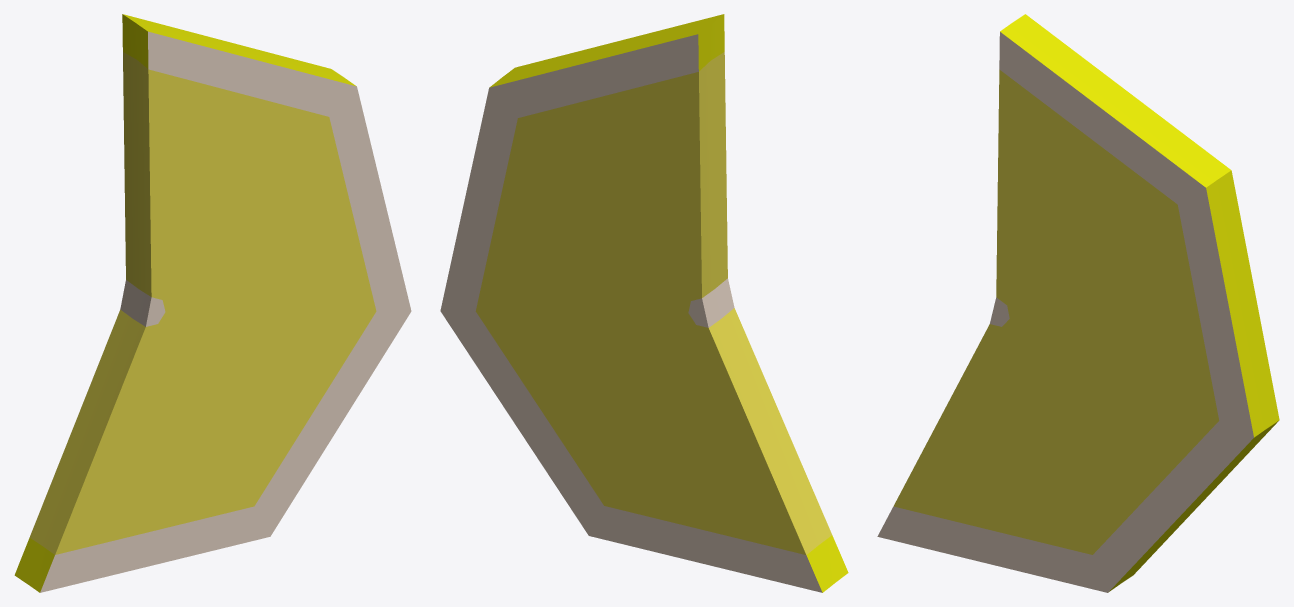
The model's file is LIMON CORTADO.fbx.
3 renders of one model, left to right at view 1: azimuth 30°, elevation 25°; view 2: azimuth 150°, elevation 25°; view 3: azimuth 330°, elevation 25°, orthographic.
Parts seen in each view (by area): view 1: LIMON MITAD; view 2: LIMON MITAD; view 3: LIMON MITAD.
Boxes of the visible parts, <box> form: LIMON MITAD: <box>14,14,411,592</box>; LIMON MITAD: <box>440,14,848,592</box>; LIMON MITAD: <box>877,14,1279,592</box>.
Size of the model in its own units: 4.72 by 6.38 by 0.7179.
